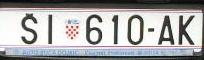-: (147, 27, 155, 33)
0: (128, 14, 144, 45)
1: (110, 14, 119, 46)
6: (85, 14, 102, 46)
A: (156, 16, 174, 46)
I: (47, 14, 53, 45)
K: (178, 15, 196, 46)
S: (21, 15, 38, 45)
